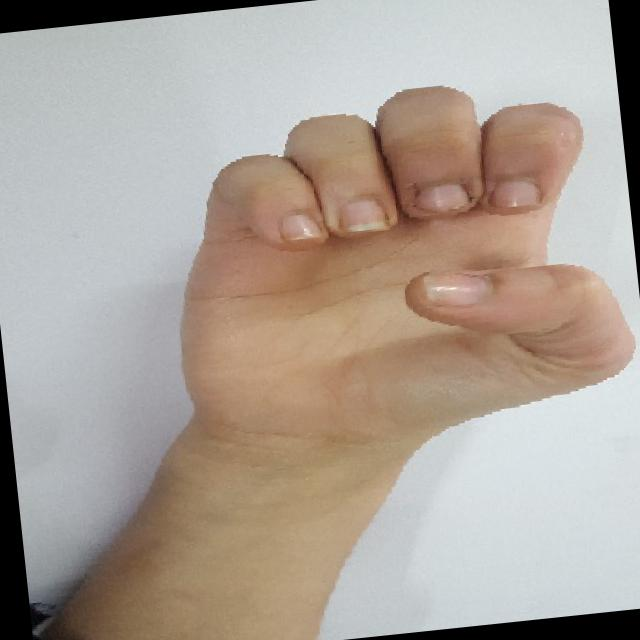Nail: (421, 272, 491, 305), (338, 195, 387, 232), (489, 177, 539, 209), (415, 182, 468, 212), (279, 211, 322, 241)
